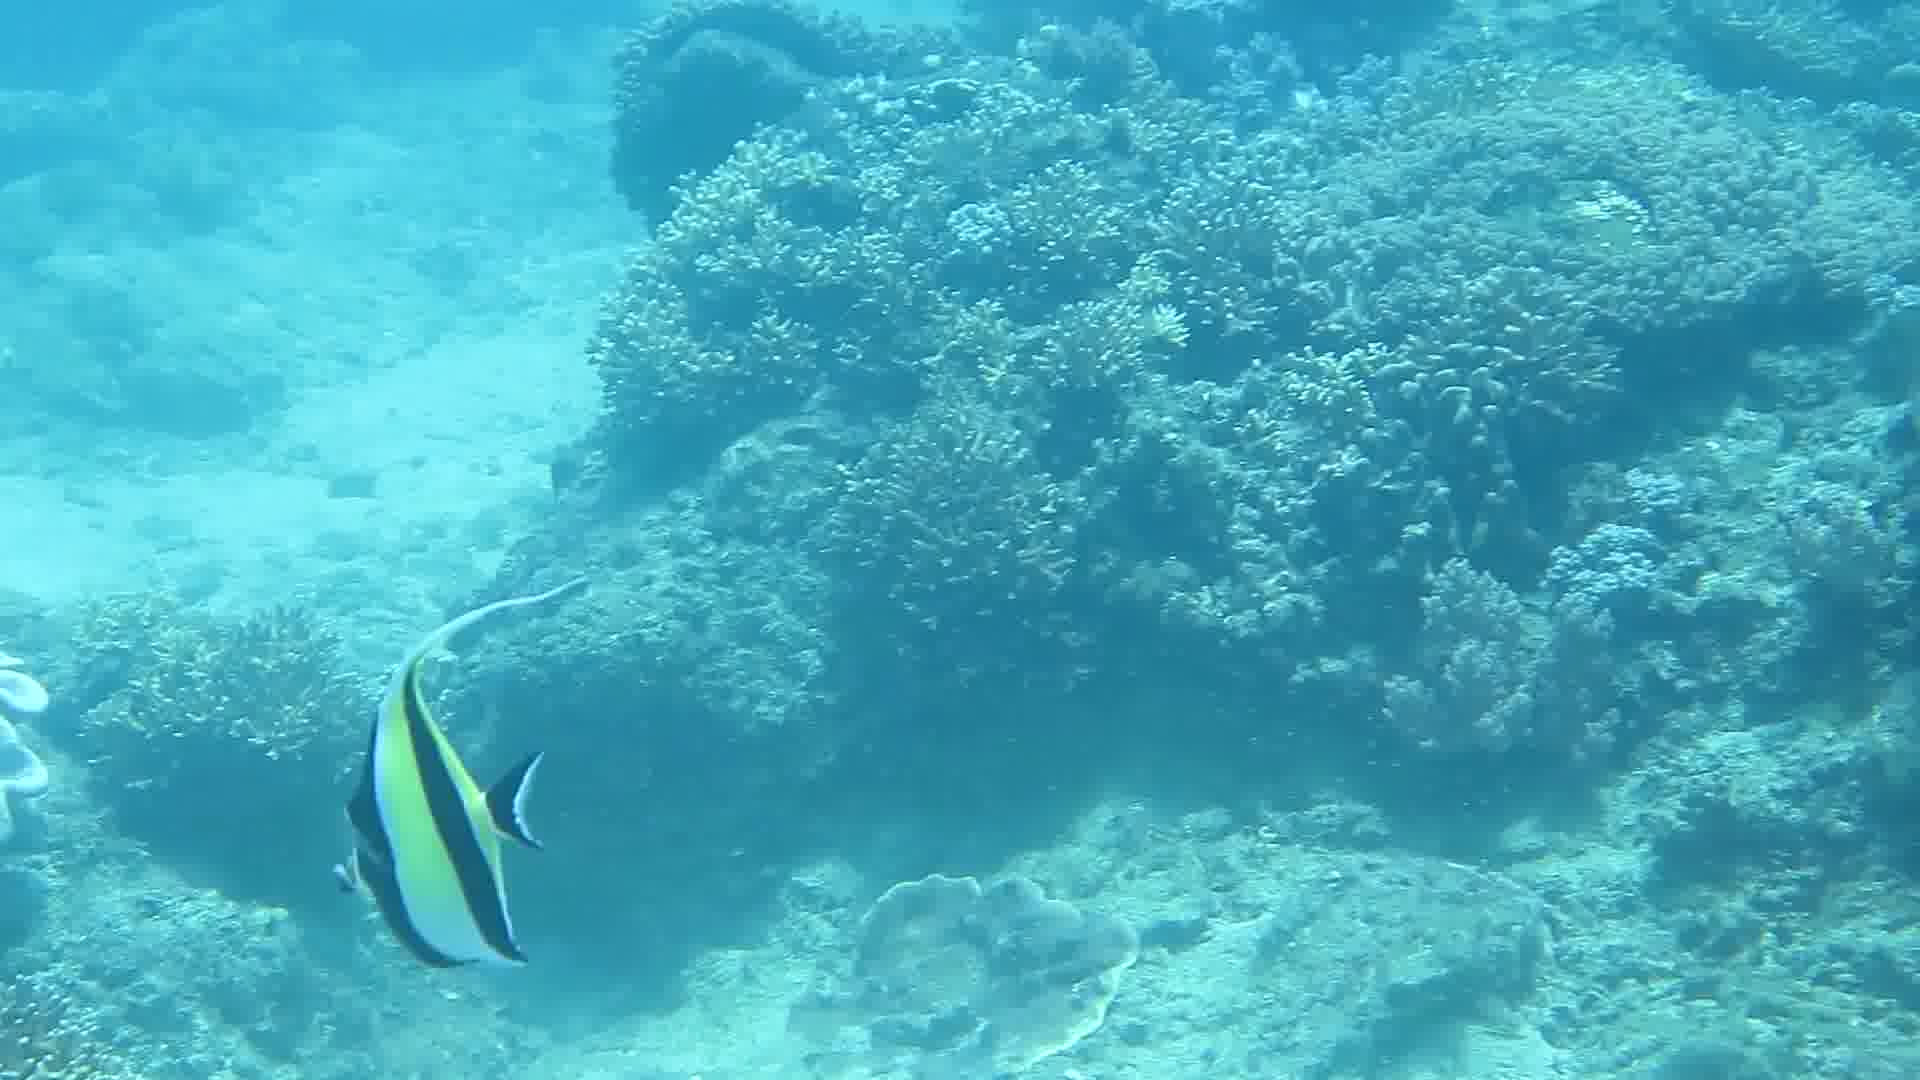Zanclus cornutus: (319, 636, 545, 994)
